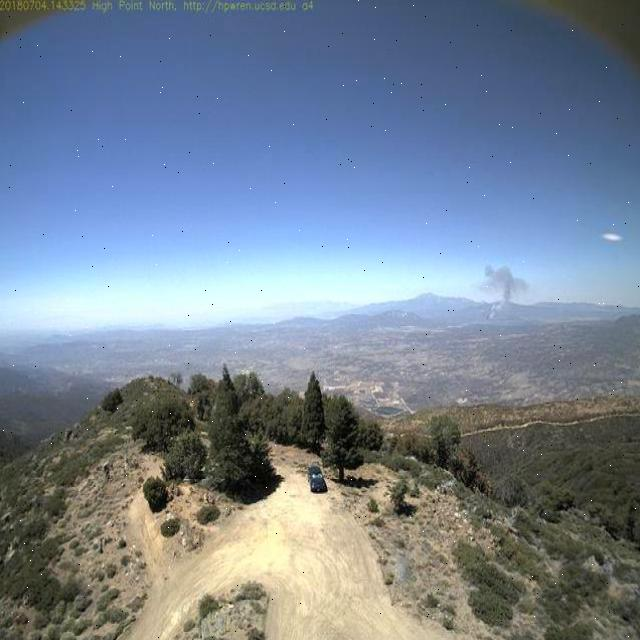smoke: (472, 258, 531, 325)
